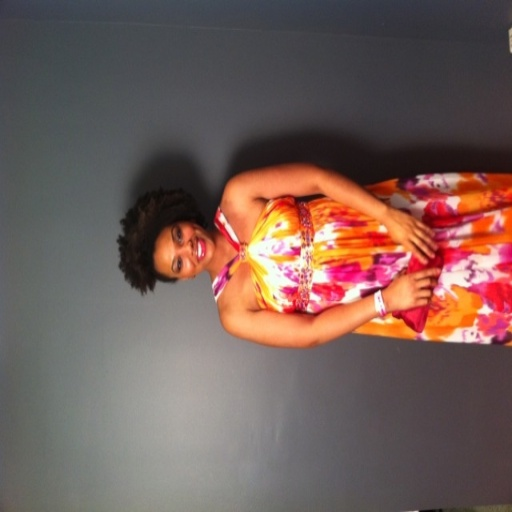hand: (383, 260, 444, 321), (387, 207, 439, 266)
